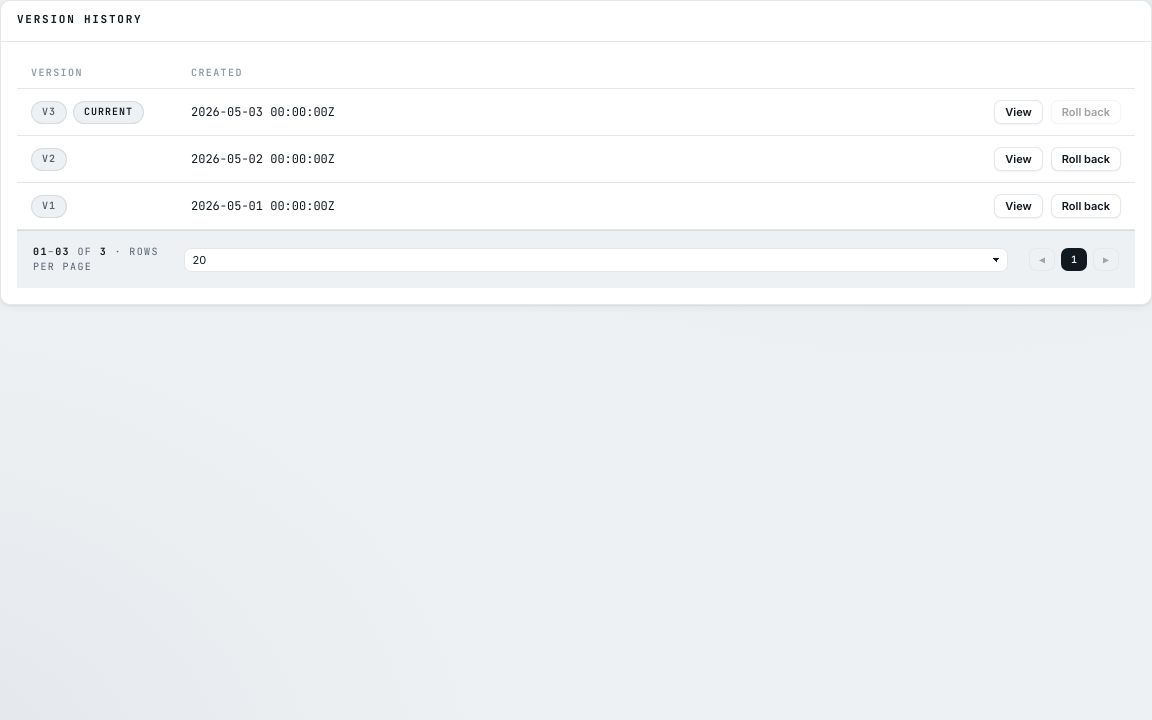
Test: PersonaVersionHistory › rolls back after confirmation and posts the chosen version
Expected: the text "v3" is shown, [31,101,67,124]
What coordinates should you click on to do the following:
click the button with aria-label "roll back to version 2"
I would click on:
 (1086, 159)
Its box is [1051,147,1121,171].
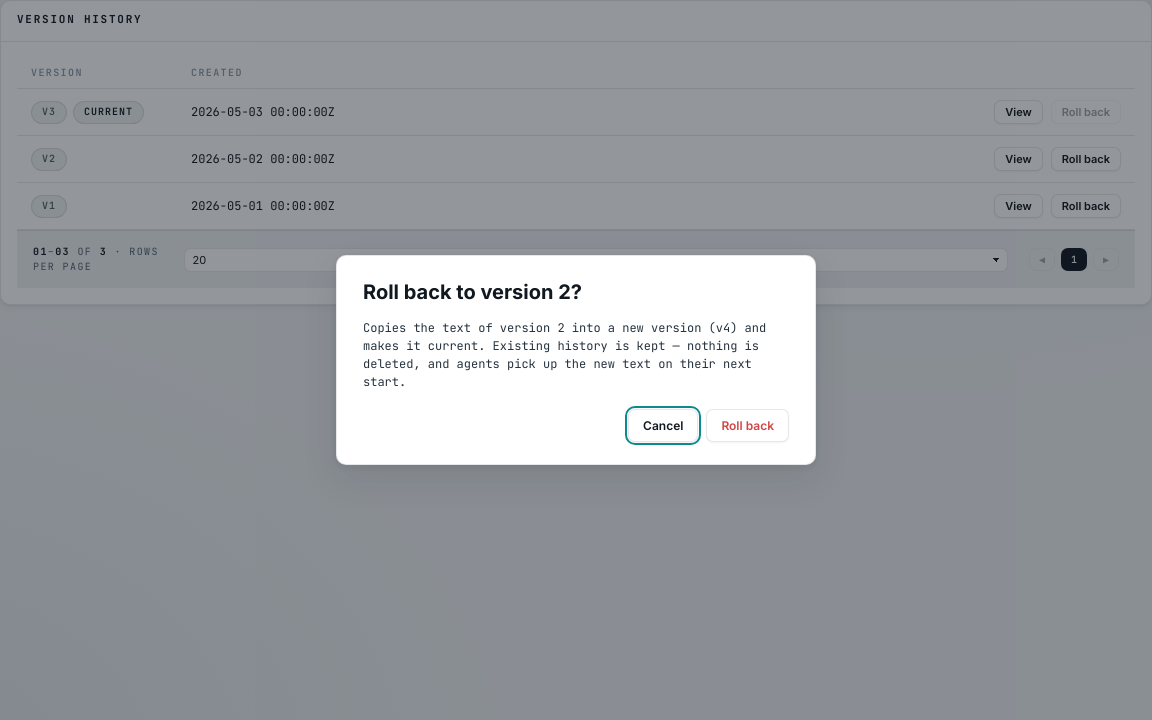
Now the dialog shows "Roll back to version 2?", box [363,280,582,304]
What coordinates should you click on to do the following:
click the button "Roll back"
I would click on:
 (748, 426)
Its box is [706,409,789,442].
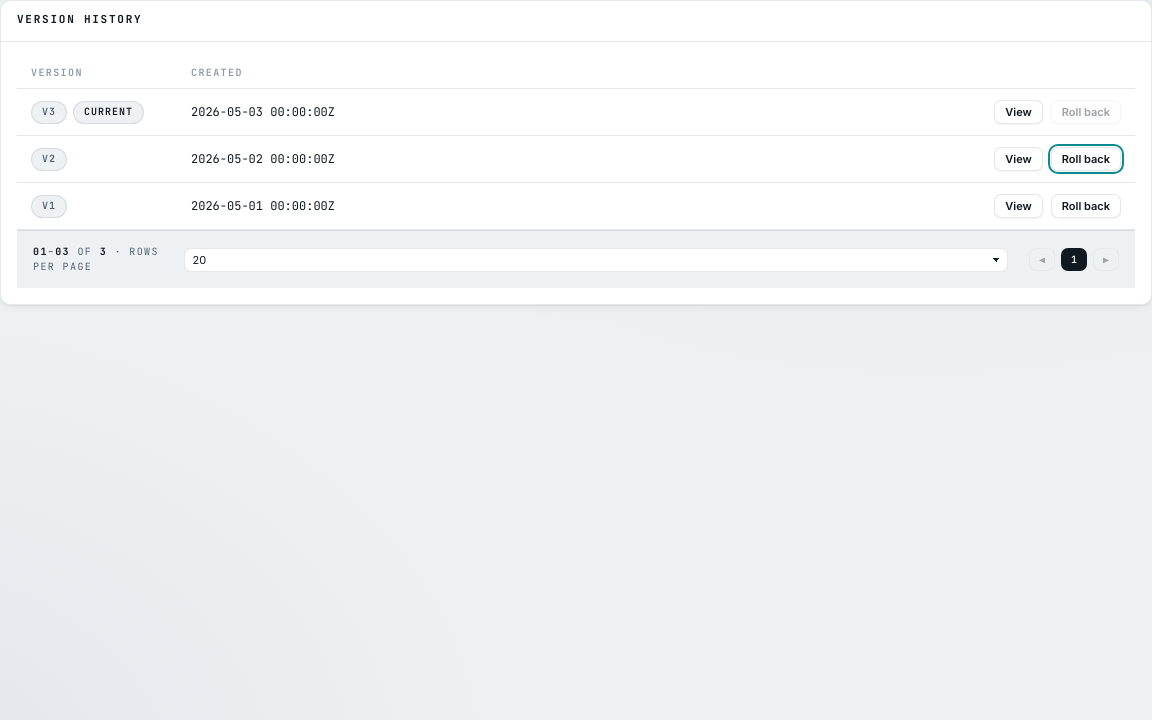
Now the dialog is gone
